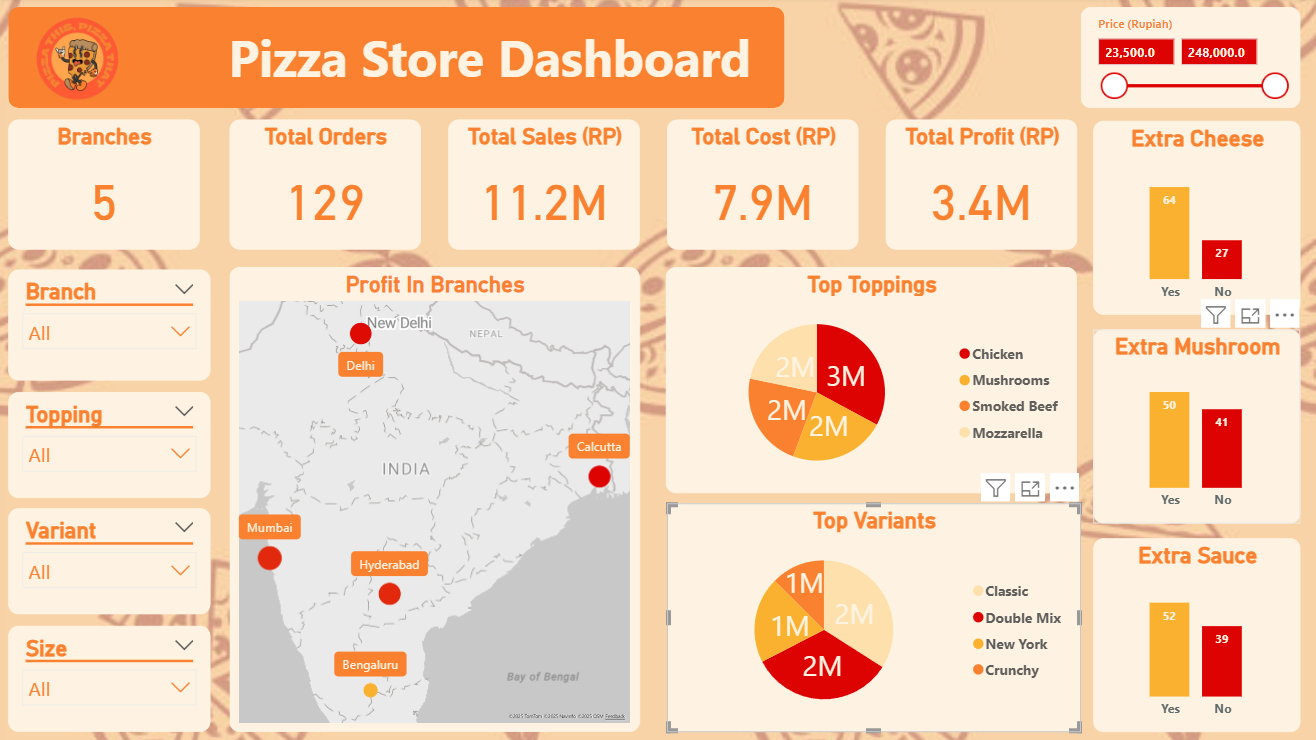

The page's visual inventory and layout, read from the dashboard file:
{"tool":"powerbi","page":{"name":"Overview","canvas":[1280,720],"ordinal":0},"visuals":[{"type":"shape","box":[15.7,4.8,832.4,113.4],"z":0},{"type":"textbox","box":[375.2,22.5,472.9,77.2],"z":1000},{"type":"image","box":[15.1,1.4,133.1,119.4],"z":2000},{"type":"slicer","fields":{"Values":["pizza_mod.Branch"]},"box":[15.7,263,195.4,107.4],"z":3000},{"type":"slicer","fields":{"Values":["pizza_mod.Topping"]},"box":[15.7,380.8,195.4,102.5],"z":4000},{"type":"slicer","title":"Price (Rupiah)","fields":{"Values":["pizza_mod.Price (Rupiah)"]},"box":[859,7.2,191.8,113.4],"z":5000},{"type":"card","title":"Total Sales (RP)","fields":{"Values":["Sum(pizza_mod.Price (Rupiah))"]},"box":[446.4,132.7,193,115.8],"z":6000},{"type":"card","title":"Total Orders","fields":{"Values":["CountNonNull(pizza_mod.Order ID)"]},"box":[229.2,132.7,193,115.8],"z":9000},{"type":"pieChart","title":"Top Toppings","fields":{"Category":["pizza_mod.Topping"],"Y":["Sum(pizza_mod.Price (Rupiah))"]},"box":[651.5,263,400.5,220.8],"z":10000},{"type":"pieChart","title":"Top Variants","fields":{"Category":["pizza_mod.Variant"],"Y":["Sum(pizza_mod.Price (Rupiah))"]},"box":[651.5,493.4,400.5,216],"z":11000},{"type":"clusteredColumnChart","title":"Extra Cheese","fields":{"Category":["pizza_mod.Extra Cheese"],"Y":["CountNonNull(pizza_mod.Extra Cheese)"]},"box":[1071.3,4.8,191.8,243.7],"z":12000},{"type":"columnChart","title":"Extra Mushroom","fields":{"Category":["pizza_mod.Extra Mushrooms"],"Series":["pizza_mod.Extra Mushrooms"],"Y":["CountNonNull(pizza_mod.Extra Mushrooms)"]},"box":[1072.5,267.8,191.8,216],"z":13000},{"type":"columnChart","title":"Extra Sauce","fields":{"Category":["pizza_mod.Extra Sauce"],"Y":["CountNonNull(pizza_mod.Extra Sauce)"]},"box":[1072.5,493.4,191.8,216],"z":14000},{"type":"azureMap","title":"Profit In Branches","fields":{"Category":["pizza_mod.Branch"],"Size":["Sum(pizza_mod.Profit (Rupiah))"]},"box":[229.2,263,410.2,446.4],"z":15000},{"type":"slicer","fields":{"Values":["pizza_mod.Size"]},"box":[15.7,606.8,195.4,102.5],"z":16000},{"type":"slicer","fields":{"Values":["pizza_mod.Variant"]},"box":[15.7,493.8,195.4,102.5],"z":17000},{"type":"card","title":"Best Profit","fields":{"Values":["Sum(pizza_mod.Profit (Rupiah))"]},"box":[651.5,132.7,196.6,114.6],"z":18000},{"type":"card","title":"Best Profit","fields":{"Values":["Sum(pizza_mod.Profit (Rupiah))"]},"box":[859,133.9,193,114.6],"z":19000},{"type":"card","title":"Total Orders","fields":{"Values":["Count(pizza_mod.Branch)"]},"box":[15.7,132.7,194.2,115.8],"z":20000}]}

Visuals, with their boxes in screenshot pixels (x1, y1, x2, y2), scaled from the page's 1280x720 canvas onto the 1316x740 screenshot:
shape: Rect(16, 5, 872, 121)
textbox: Rect(386, 23, 872, 102)
image: Rect(16, 1, 152, 124)
slicer - pizza_mod.Branch: Rect(16, 270, 217, 381)
slicer - pizza_mod.Topping: Rect(16, 391, 217, 497)
"Price (Rupiah)" slicer: Rect(883, 7, 1080, 124)
"Total Sales (RP)" card: Rect(459, 136, 657, 255)
"Total Orders" card: Rect(236, 136, 434, 255)
"Top Toppings" pieChart: Rect(670, 270, 1082, 497)
"Top Variants" pieChart: Rect(670, 507, 1082, 729)
"Extra Cheese" clusteredColumnChart: Rect(1101, 5, 1299, 255)
"Extra Mushroom" columnChart: Rect(1103, 275, 1300, 497)
"Extra Sauce" columnChart: Rect(1103, 507, 1300, 729)
"Profit In Branches" azureMap: Rect(236, 270, 657, 729)
slicer - pizza_mod.Size: Rect(16, 624, 217, 729)
slicer - pizza_mod.Variant: Rect(16, 508, 217, 613)
"Best Profit" card: Rect(670, 136, 872, 254)
"Best Profit" card: Rect(883, 138, 1082, 255)
"Total Orders" card: Rect(16, 136, 216, 255)
